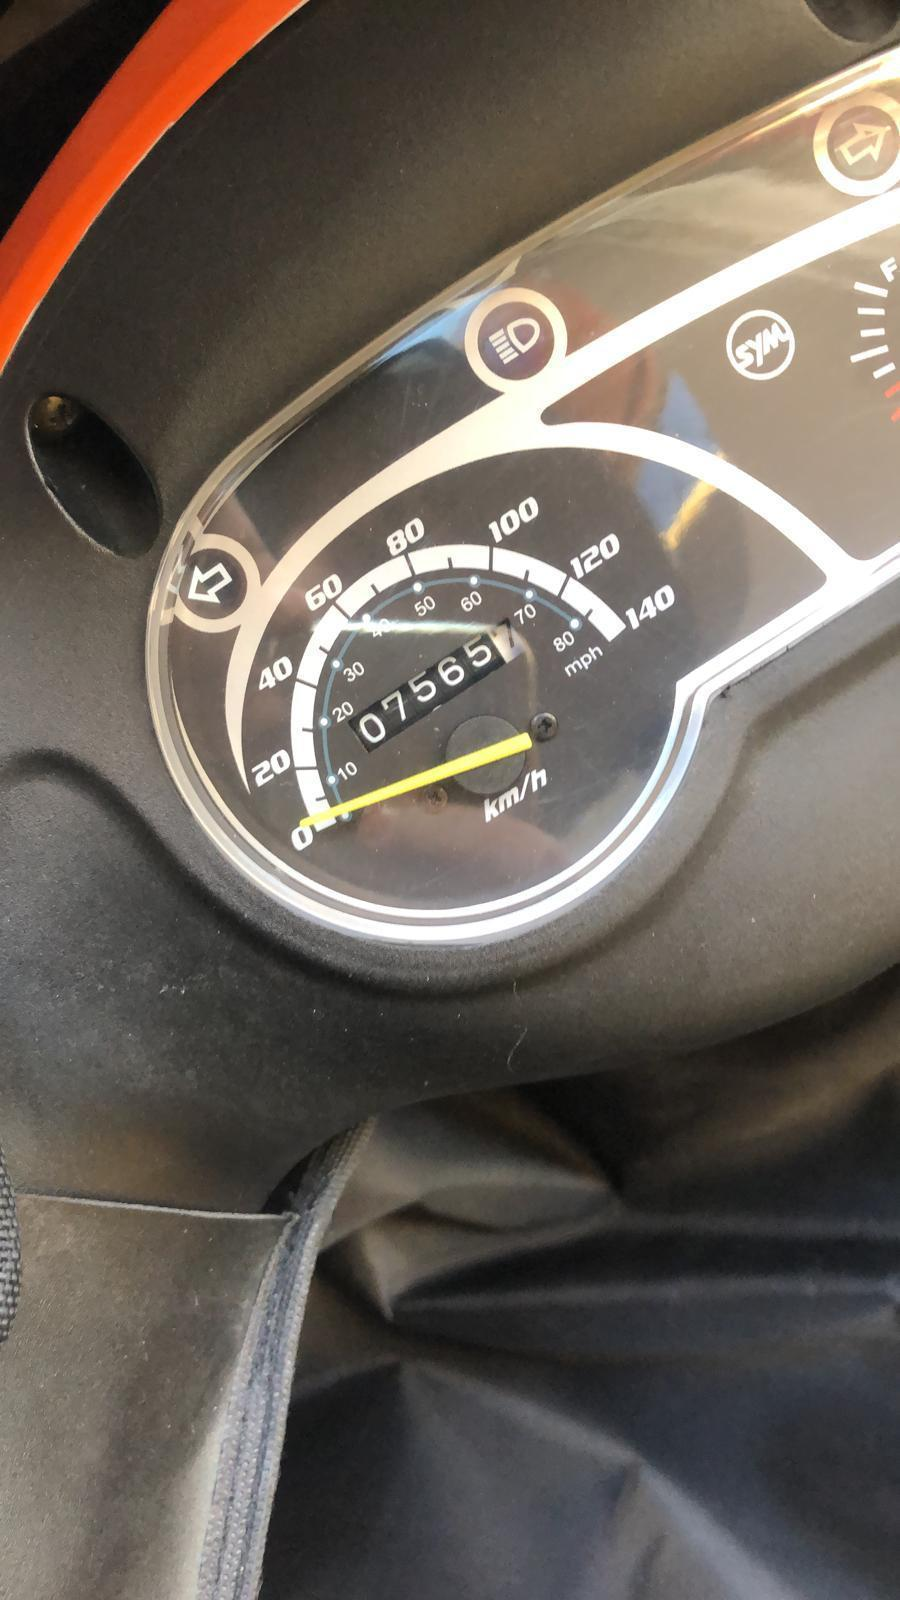0: (357, 713, 388, 744), (379, 616, 395, 633), (340, 699, 353, 716), (352, 660, 364, 675)
3: (342, 667, 354, 682)
4: (369, 627, 381, 642)
5: (402, 667, 438, 703), (462, 631, 495, 669)
7: (375, 689, 411, 722), (489, 616, 521, 651)
odometer: (345, 616, 527, 748)
